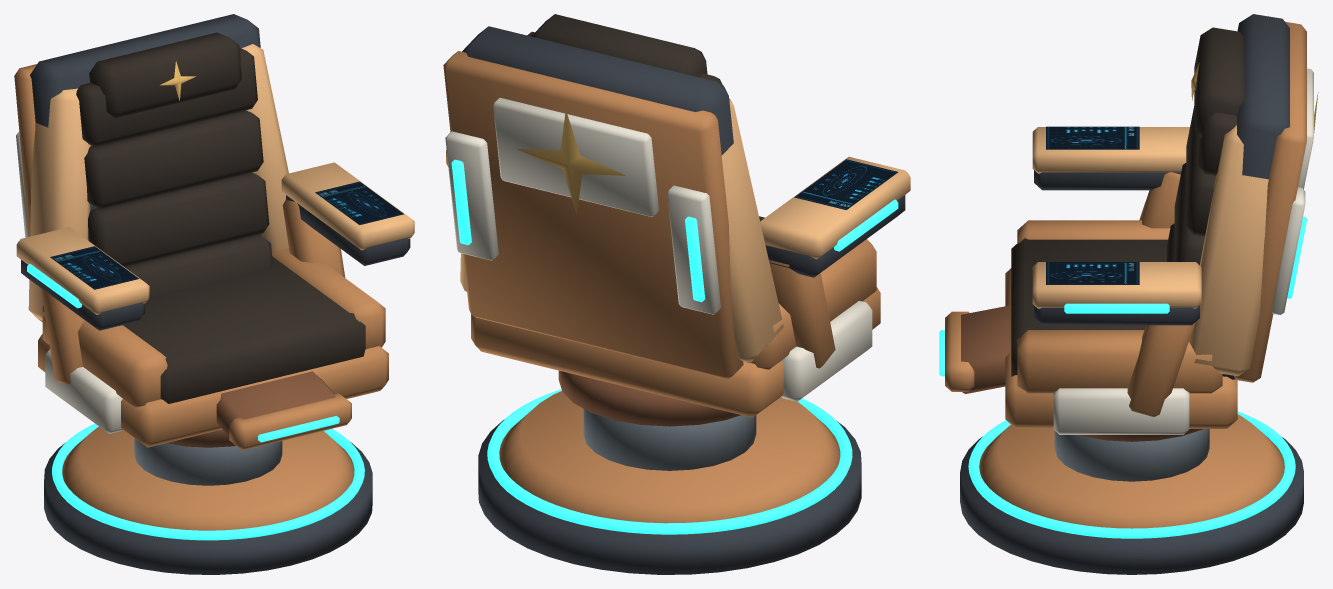
File: Commander_Chair.glb
The picture shows the model from 3 angles, left to right: view 1: azimuth 30°, elevation 25°; view 2: azimuth 150°, elevation 25°; view 3: azimuth 270°, elevation 25°; orthographic projection. The views are drawn at different scales.
Parts seen in each view (by area): view 1: Swivel, Backrest, Root; view 2: Backrest, Root, Swivel; view 3: Swivel, Root, Backrest.
Boxes of the visible parts, left/top/right/bottom form: Swivel: left=16, top=162, right=414, bottom=450; Backrest: left=14, top=14, right=288, bottom=322; Root: left=44, top=423, right=372, bottom=574; Backrest: left=443, top=14, right=783, bottom=378; Root: left=478, top=370, right=861, bottom=574; Swivel: left=446, top=150, right=910, bottom=417; Swivel: left=939, top=126, right=1237, bottom=434; Root: left=960, top=411, right=1303, bottom=574; Backrest: left=1167, top=14, right=1318, bottom=382.
Size of the model in its own units: 1.32 by 1.62 by 1.26.
10 materials, 1 textured.
